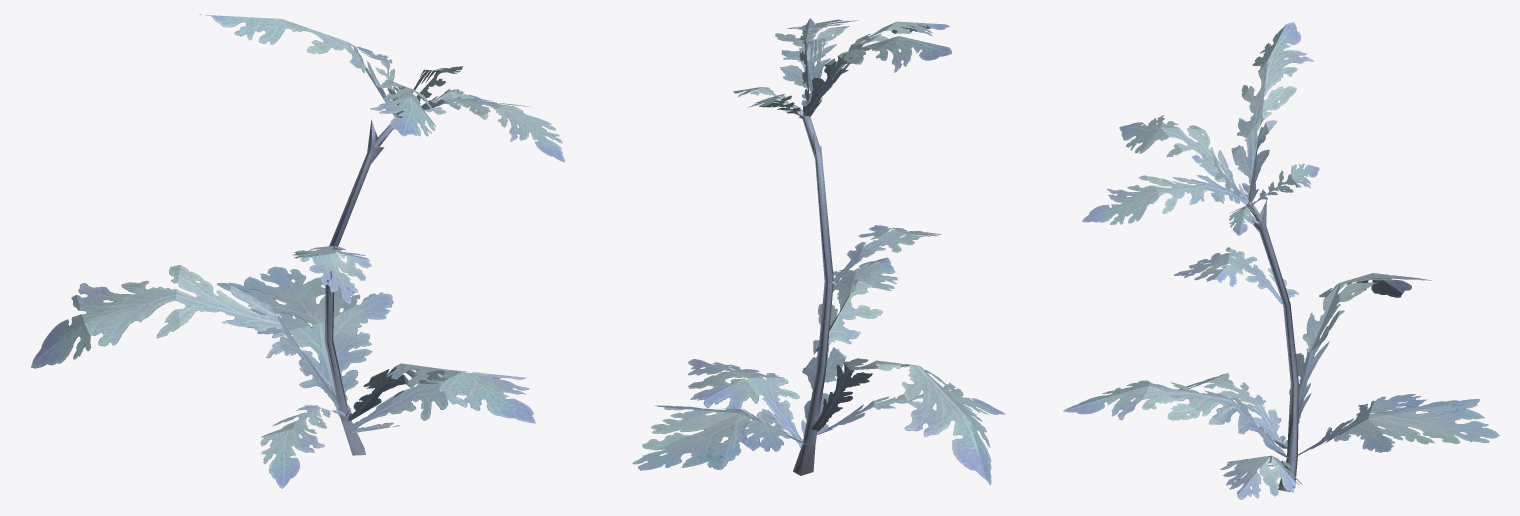
Rendered from bg_lut_foilage_medherb01_sm_artree.FBX.
The picture shows the model from 3 angles, left to right: view 1: azimuth 30°, elevation 25°; view 2: azimuth 150°, elevation 25°; view 3: azimuth 270°, elevation 25°; orthographic projection. The views are drawn at different scales.
Parts seen in each view (by area): view 1: bg_lut_foilage_medherb01_sm_artree; view 2: bg_lut_foilage_medherb01_sm_artree; view 3: bg_lut_foilage_medherb01_sm_artree.
Part boxes in pixels (bbox=[...]): bg_lut_foilage_medherb01_sm_artree: bbox=[31, 14, 565, 488]; bg_lut_foilage_medherb01_sm_artree: bbox=[632, 18, 1005, 485]; bg_lut_foilage_medherb01_sm_artree: bbox=[1063, 22, 1499, 499].
Bounding box in the file's own units: 62.75 × 67.81 × 69.5.
